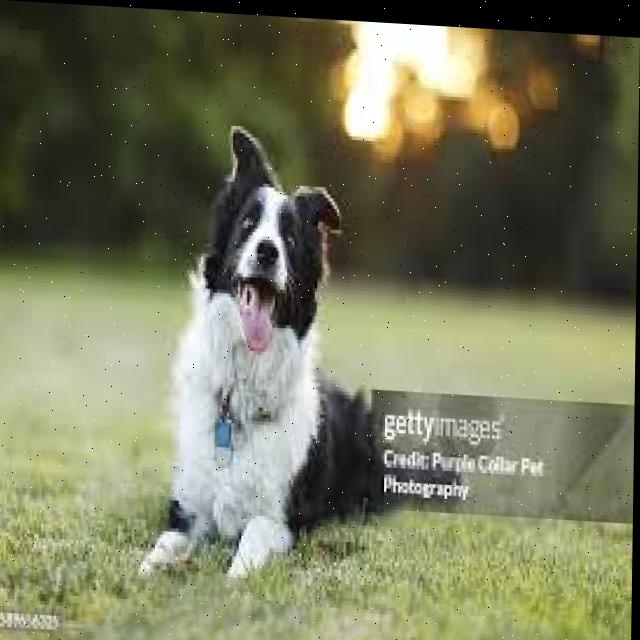BORDER_COLLIE: (137, 113, 475, 597)
